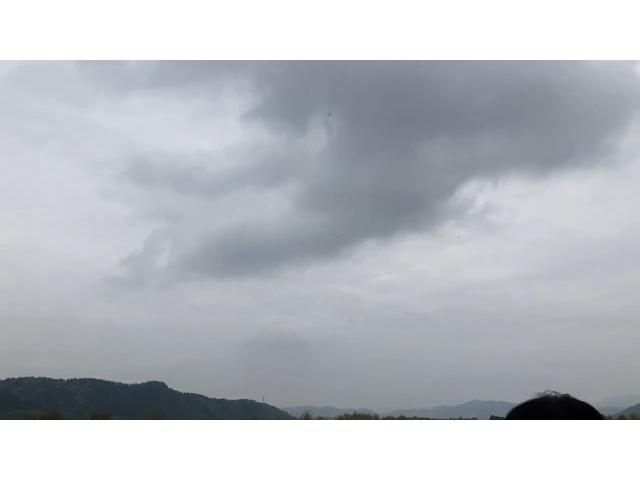Anti-Drone: (330, 229, 350, 243)
